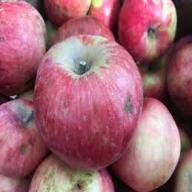apple: (34, 43, 142, 156), (118, 98, 180, 189), (1, 3, 49, 81), (2, 98, 50, 171), (32, 151, 112, 189)
